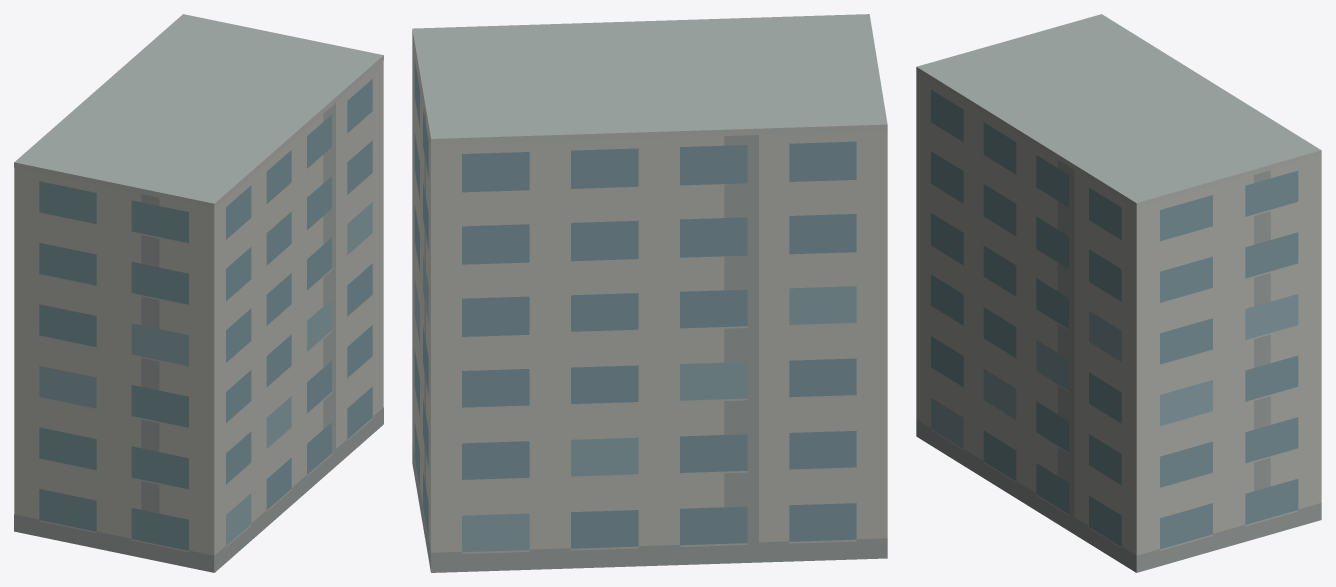
File: survey-upis-32883464.glb
3 renders of one model, left to right at view 1: azimuth 30°, elevation 25°; view 2: azimuth 150°, elevation 25°; view 3: azimuth 270°, elevation 25°, orthographic. The views are drawn at different scales.
Parts seen in each view (by area): view 1: survey-upis-32883464.tmp; view 2: survey-upis-32883464.tmp; view 3: survey-upis-32883464.tmp.
Part boxes in pixels (x1,y1,x2,y2): survey-upis-32883464.tmp: (14, 14, 383, 572); survey-upis-32883464.tmp: (412, 14, 887, 572); survey-upis-32883464.tmp: (916, 14, 1321, 572).
Bounding box in the file's own units: 18.11 × 16.5 × 16.39.
